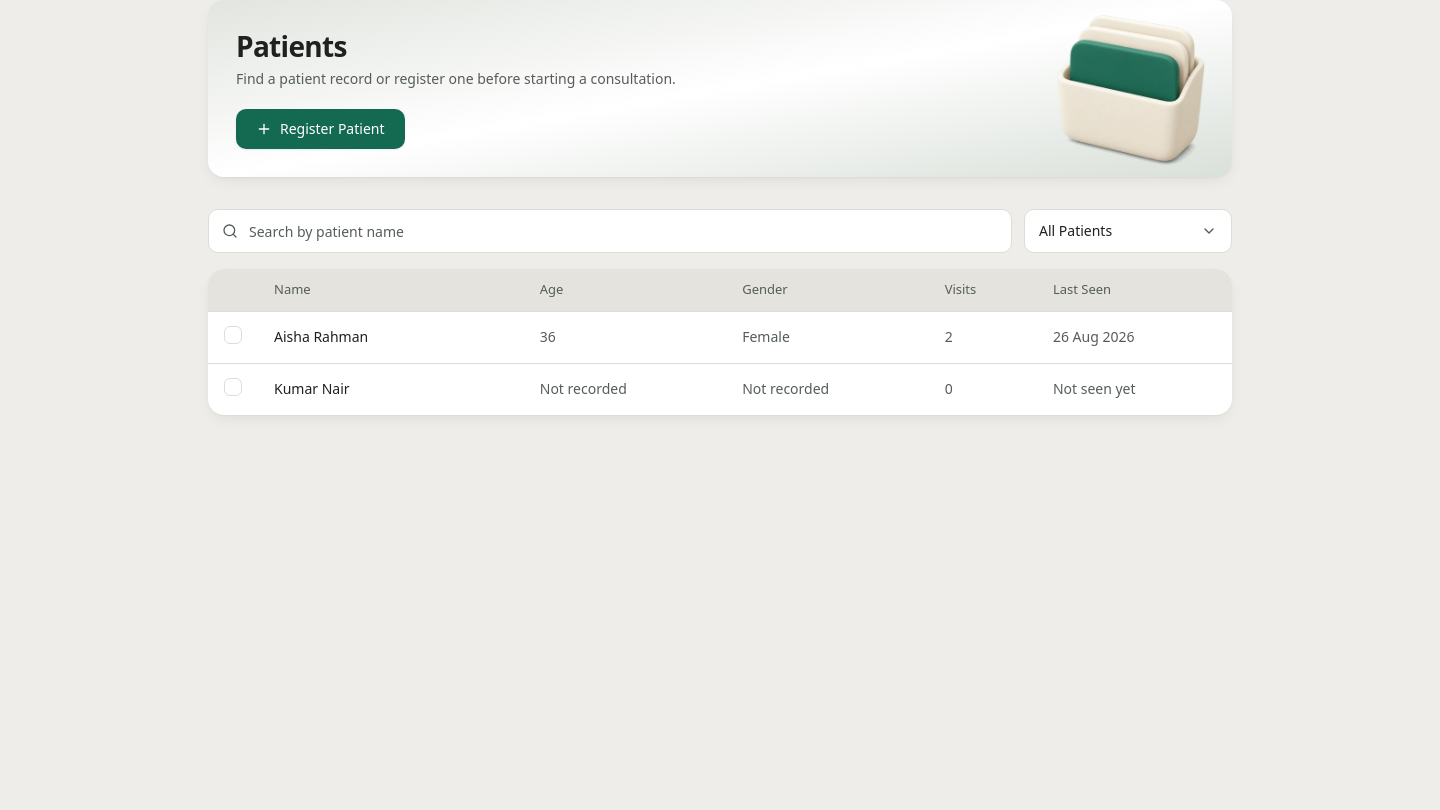
erasing patients › states the consultation blast radius, not just the patient count
Check: the link "Aisha Rahman" is shown, box x1=274 y1=327 x2=368 y2=347
Click the checkbox named "Select Aisha Rahman".
click(233, 335)  # box x1=224 y1=326 x2=242 y2=344
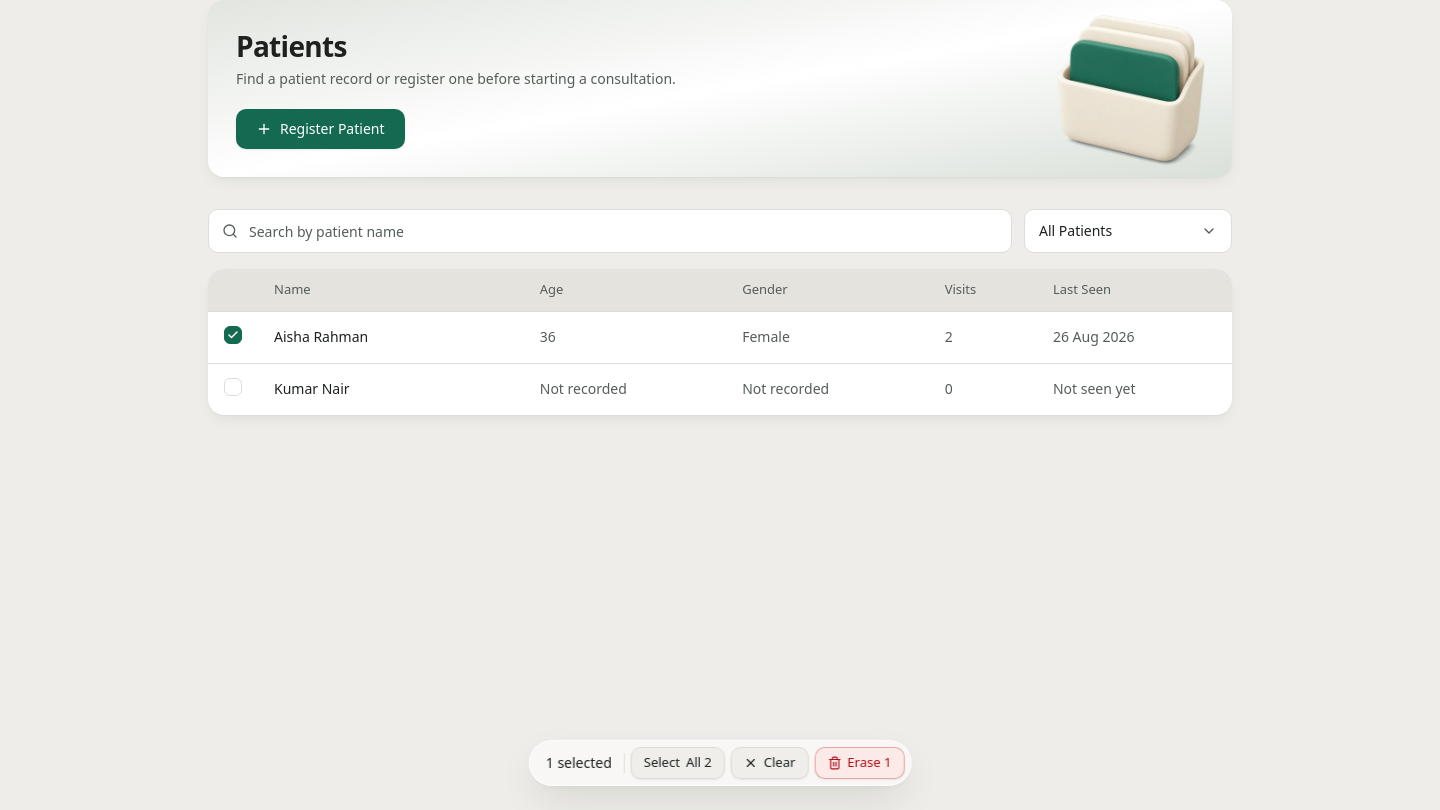
Click the checkbox named "Select Kumar Nair".
click(233, 387)  # box x1=224 y1=378 x2=242 y2=396
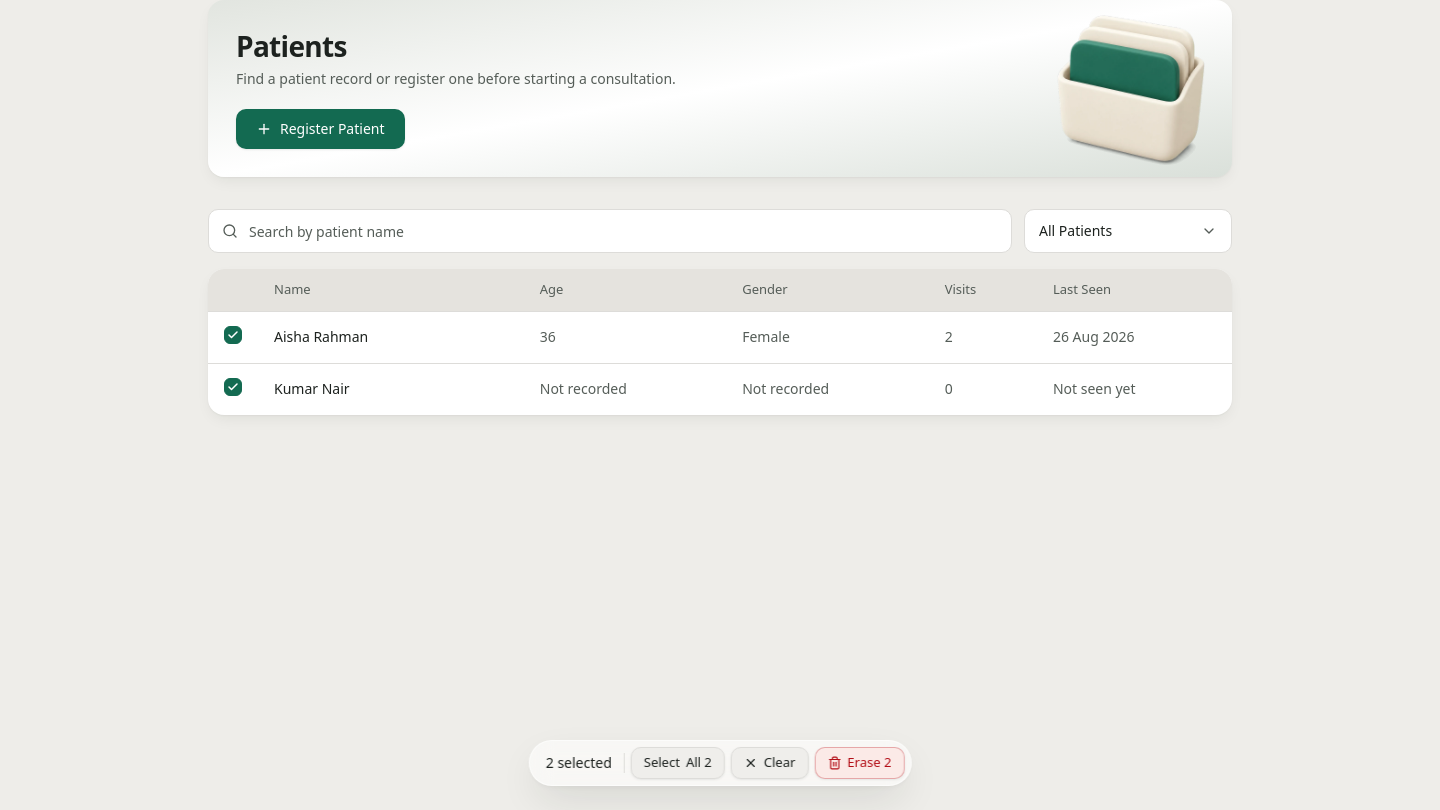
Click the button "Erase 2".
click(859, 763)  # box x1=814 y1=747 x2=904 y2=779
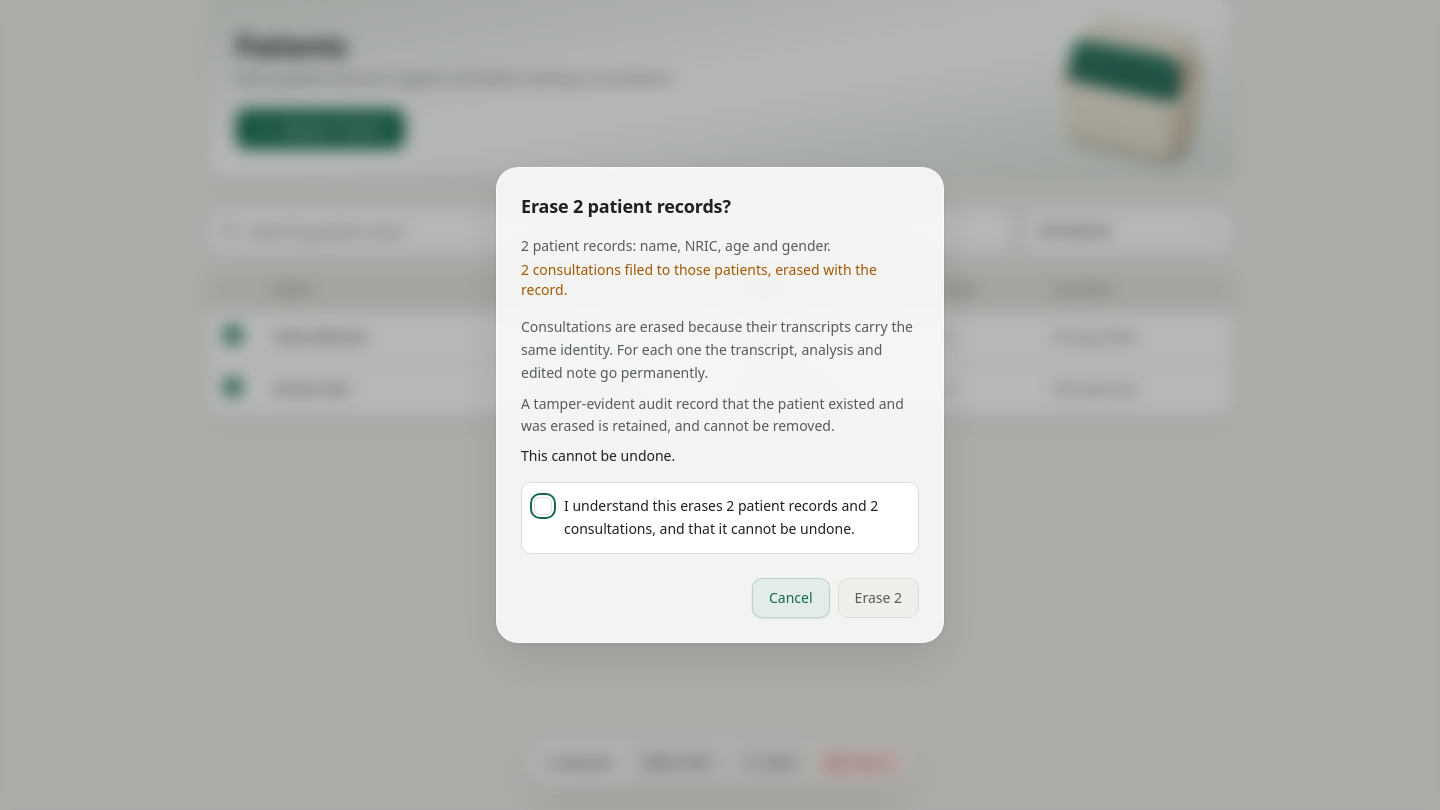
Check: the heading "Erase 2 patient records?" is shown, box x1=521 y1=194 x2=731 y2=218
Check: the list item "2 consultations filed to those patients" is shown, box x1=521 y1=260 x2=919 y2=300
